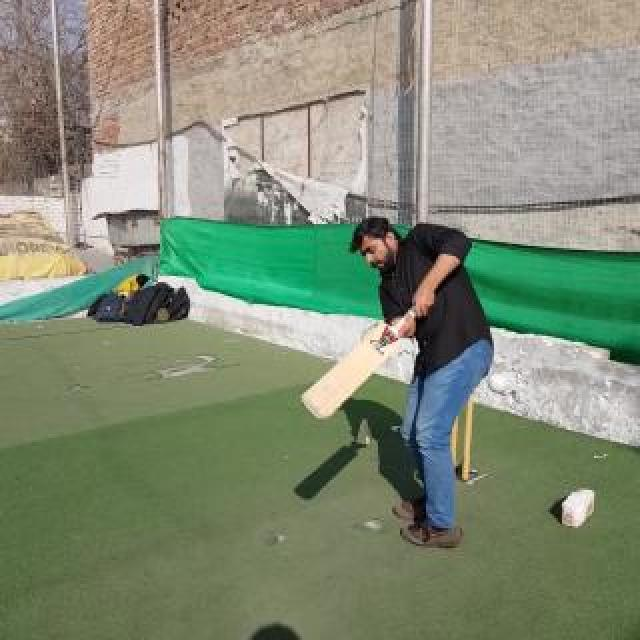bat: (300, 311, 416, 419)
